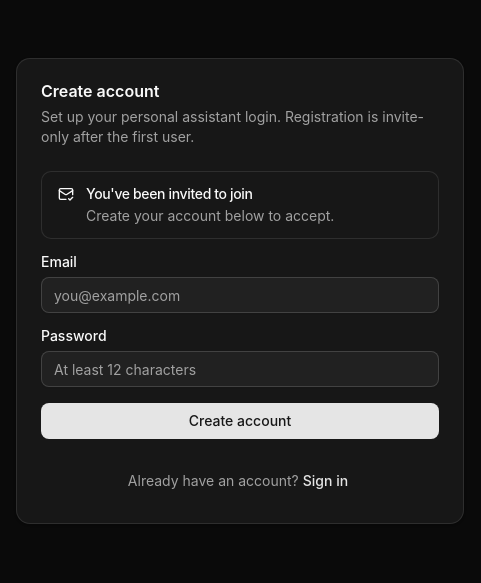
Register › surfaces invalid_invite error with friendly copy
Type "who@example.com" into the field labelled "Email". click: (240, 295)
box: [41,277,439,313]
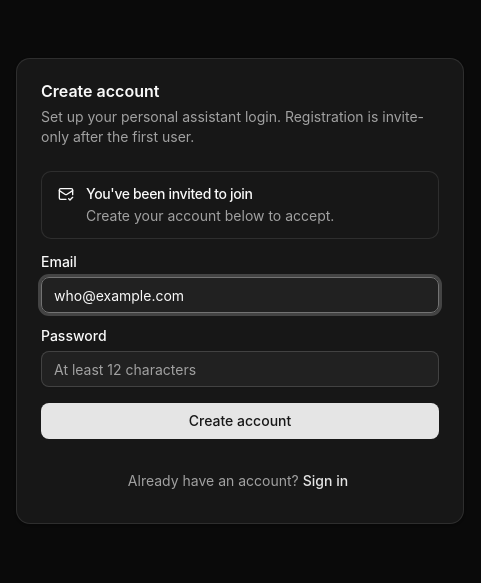
Type "hunter22-long-enough" into the password field labelled "Password". click: (240, 369)
box: [41,351,439,387]
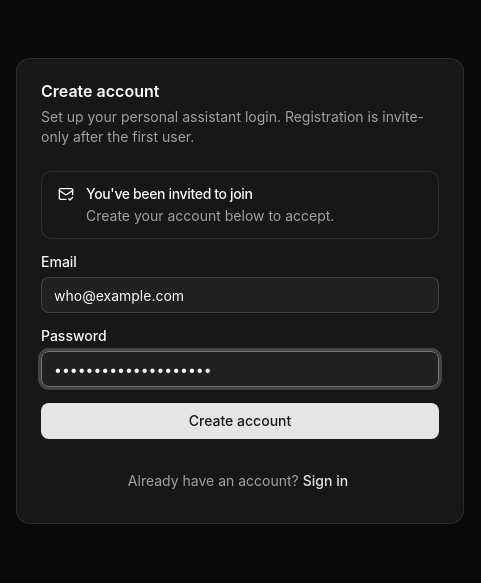
Click the button "Create account". click: (240, 421)
box: [41,403,439,439]
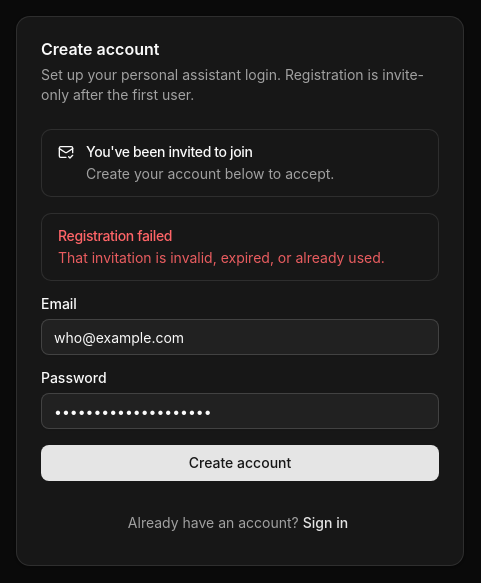
Expected: the text "That invitation is invalid, expired, or already used." is shown, [58,248,422,268]
